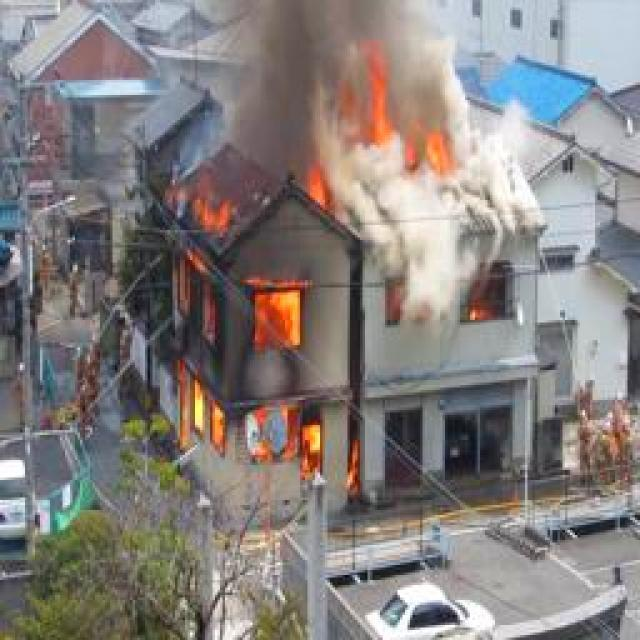Fire: (174, 170, 330, 487), (356, 76, 453, 170)
